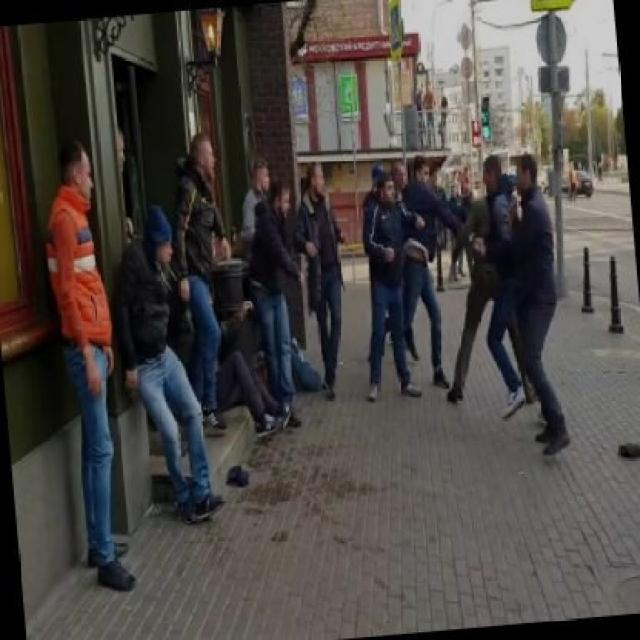fight: (393, 153, 510, 406)
non-fight: (37, 126, 148, 599), (442, 148, 583, 460), (146, 125, 246, 537), (284, 153, 362, 404)
